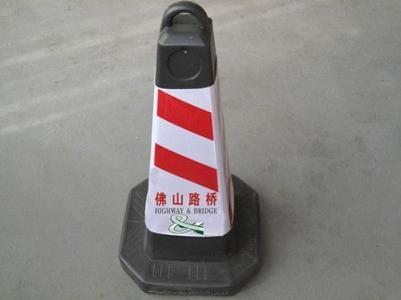cone_barrel: (118, 5, 255, 281)
